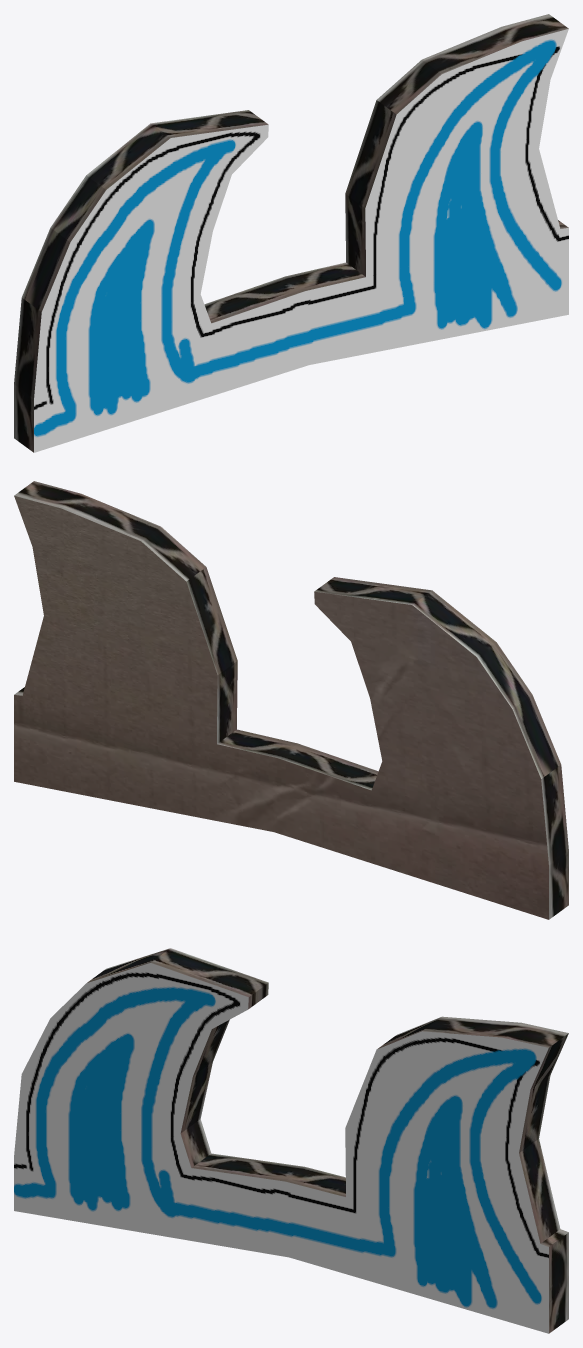
The model's file is wave.fbx.
3 renders of one model, top to bottom at view 1: azimuth 30°, elevation 25°; view 2: azimuth 150°, elevation 25°; view 3: azimuth 330°, elevation 25°, orthographic.
Visible parts, largest first — view 1: wave; view 2: wave; view 3: wave.
Boxes of the visible parts, x1=… form: wave: x1=14, y1=14, x2=568, y2=452; wave: x1=14, y1=481, x2=568, y2=919; wave: x1=14, y1=948, x2=568, y2=1333.
Size of the model in its own units: 400 by 210 by 26.
